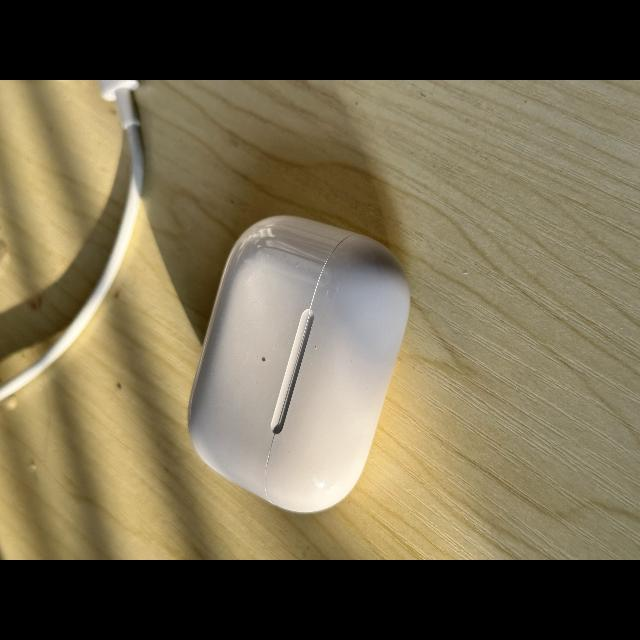AirPods Pro: (188, 215, 410, 513)
